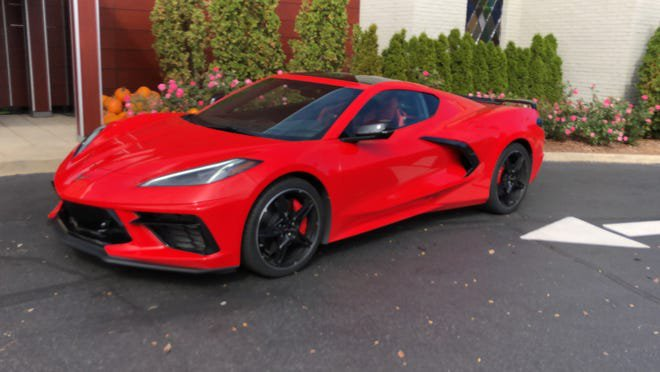car: (55, 71, 550, 282)
